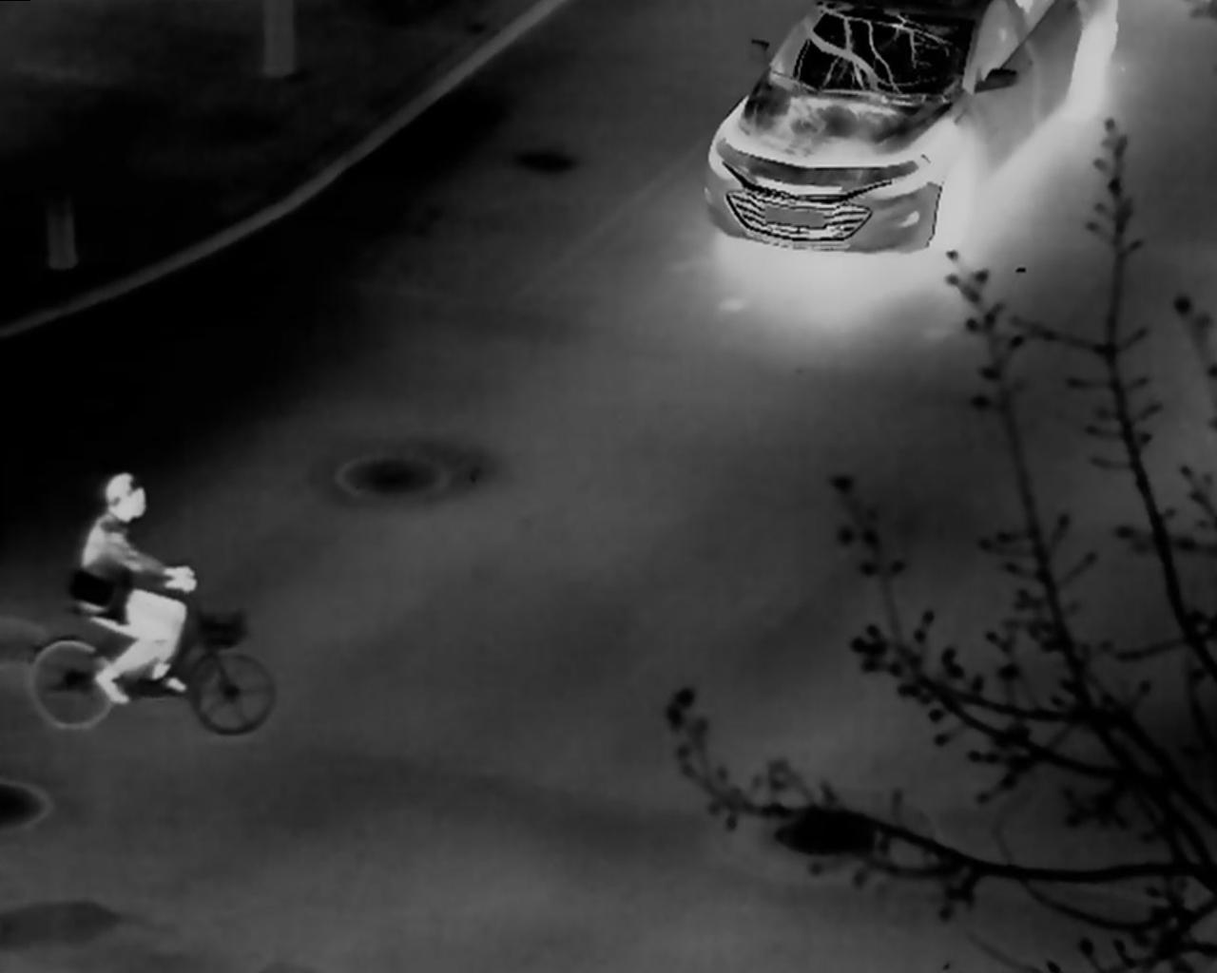person: (68, 473, 196, 708)
